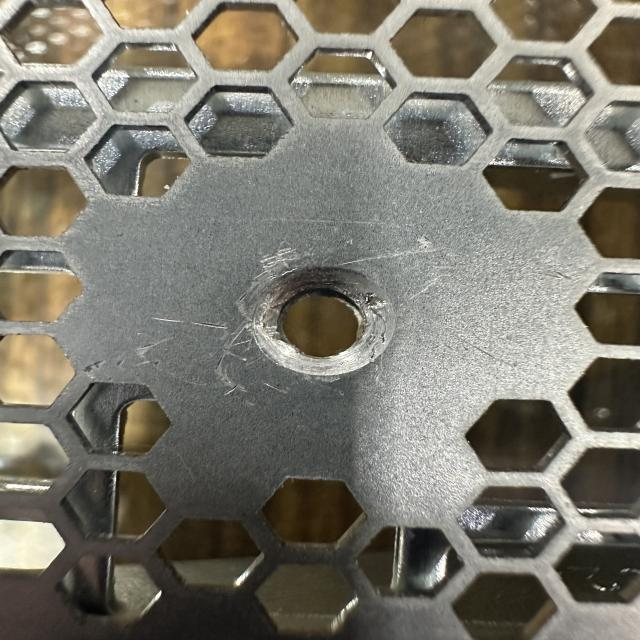Missing screw: (232, 255, 412, 388)
